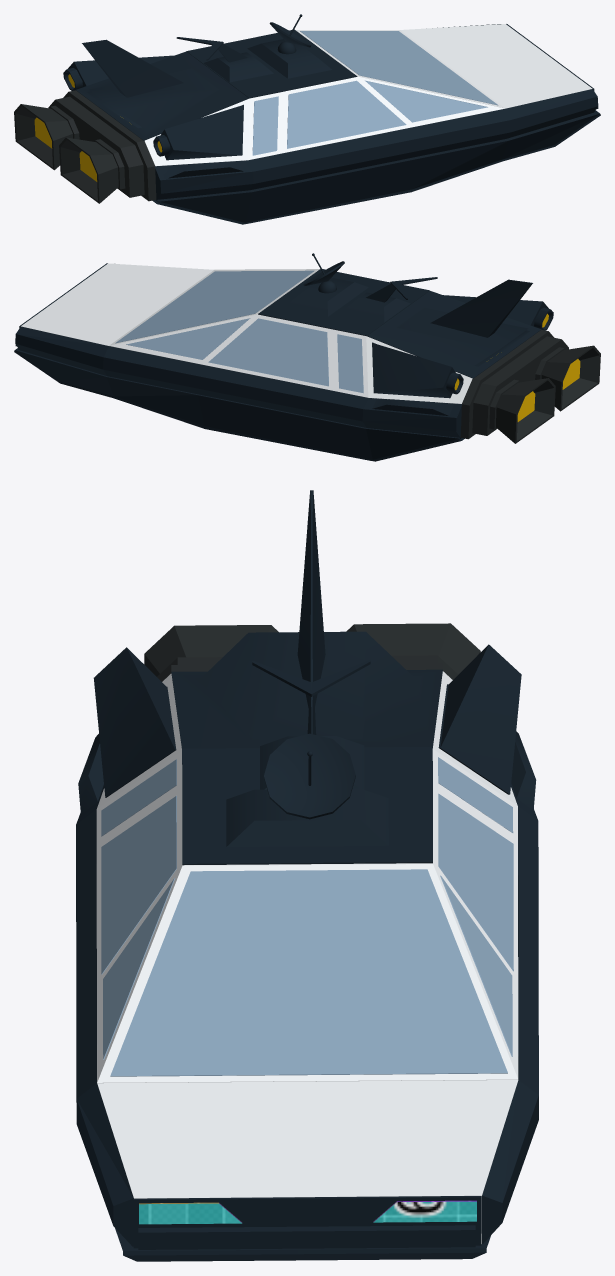
The model's file is car.glb.
The picture shows the model from 3 angles, top to bottom: view 1: azimuth 30°, elevation 25°; view 2: azimuth 150°, elevation 25°; view 3: azimuth 270°, elevation 25°; orthographic projection. The views are drawn at different scales.
Visible parts, largest first — view 1: Car; view 2: Car; view 3: Car.
Part boxes in pixels (<box>): Car: <box>14,14,600,224</box>; Car: <box>14,253,600,461</box>; Car: <box>76,490,538,1261</box>.
Size of the model in its own units: 2.1 by 0.7918 by 0.8422.
7 materials, 1 textured.
